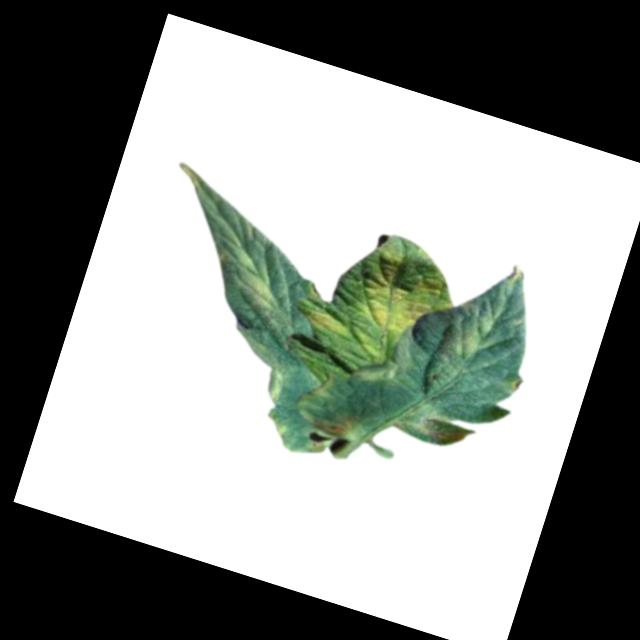Leaf_Mold: (350, 239, 461, 349), (217, 243, 289, 317), (437, 291, 506, 368), (404, 397, 473, 451), (309, 405, 361, 443), (304, 303, 354, 342)
